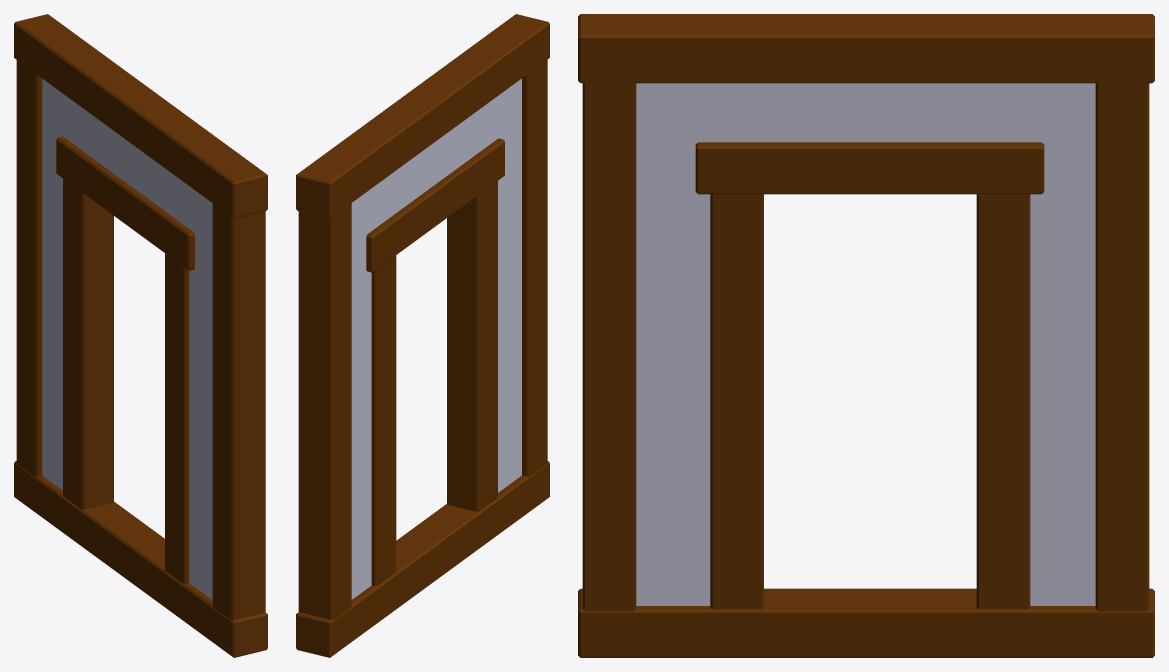
The model's file is Wall2.fbx.
3 views of the same model, side by side, from view 1: azimuth 30°, elevation 25°; view 2: azimuth 150°, elevation 25°; view 3: azimuth 270°, elevation 25° (orthographic). The views are drawn at different scales.
Parts seen in each view (by area): view 1: Plank.011; view 2: Plank.011; view 3: Plank.011.
Boxes of the visible parts, left/top/right/bottom form: Plank.011: left=14, top=14, right=267, bottom=657; Plank.011: left=296, top=14, right=549, bottom=657; Plank.011: left=578, top=14, right=1154, bottom=657.
Bounding box in the file's own units: 19.3 × 247 × 207.
